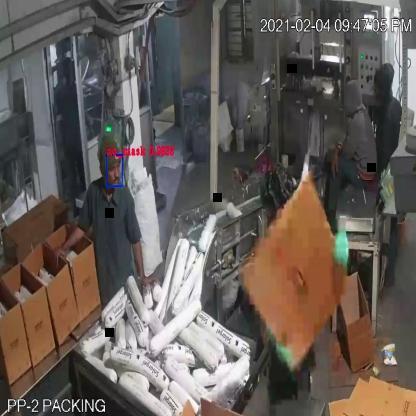no_glove: (50, 214, 92, 271), (129, 227, 159, 292)
